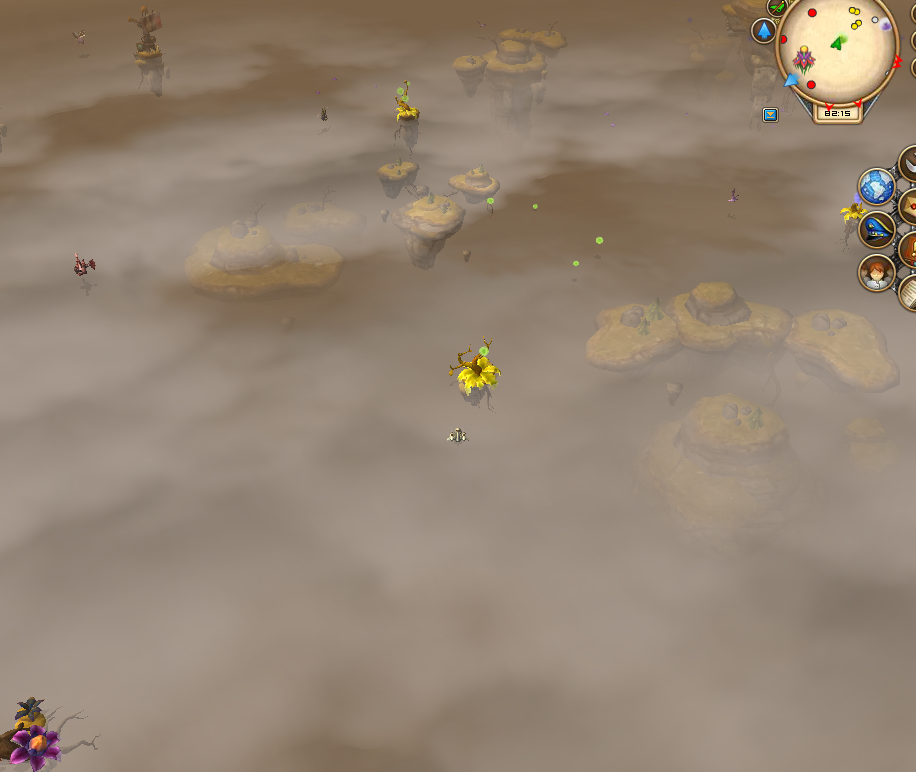dandelion-full: (448, 338, 505, 411), (392, 77, 424, 148)
fluff: (593, 233, 606, 248), (485, 195, 497, 207), (570, 257, 583, 268), (529, 201, 542, 212)
